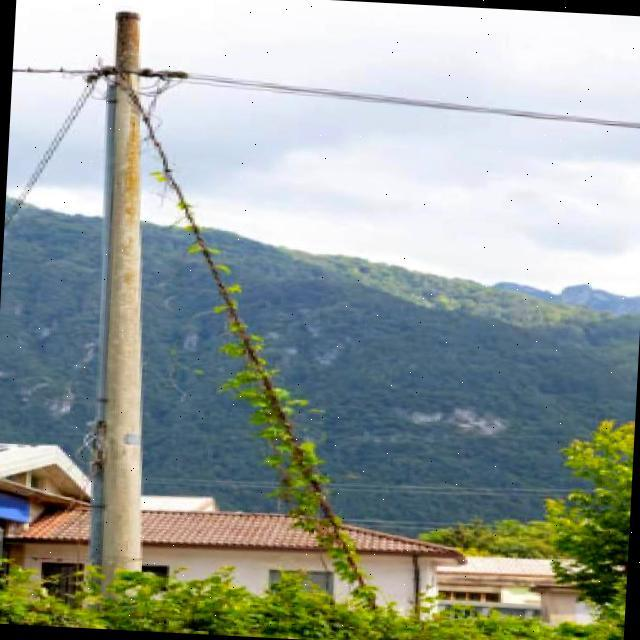critical vegetation: (58, 8, 401, 577)
